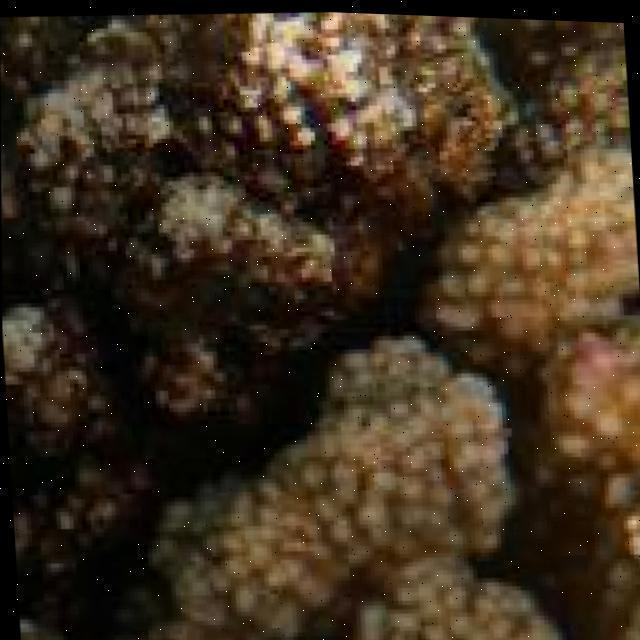Bleached Coral: (204, 359, 640, 640), (435, 142, 639, 362)
